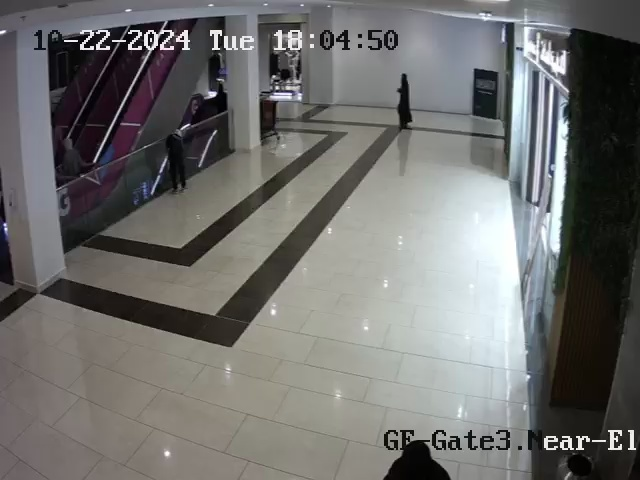female: (382, 440, 452, 480), (396, 73, 413, 129)
male: (165, 93, 205, 194)
